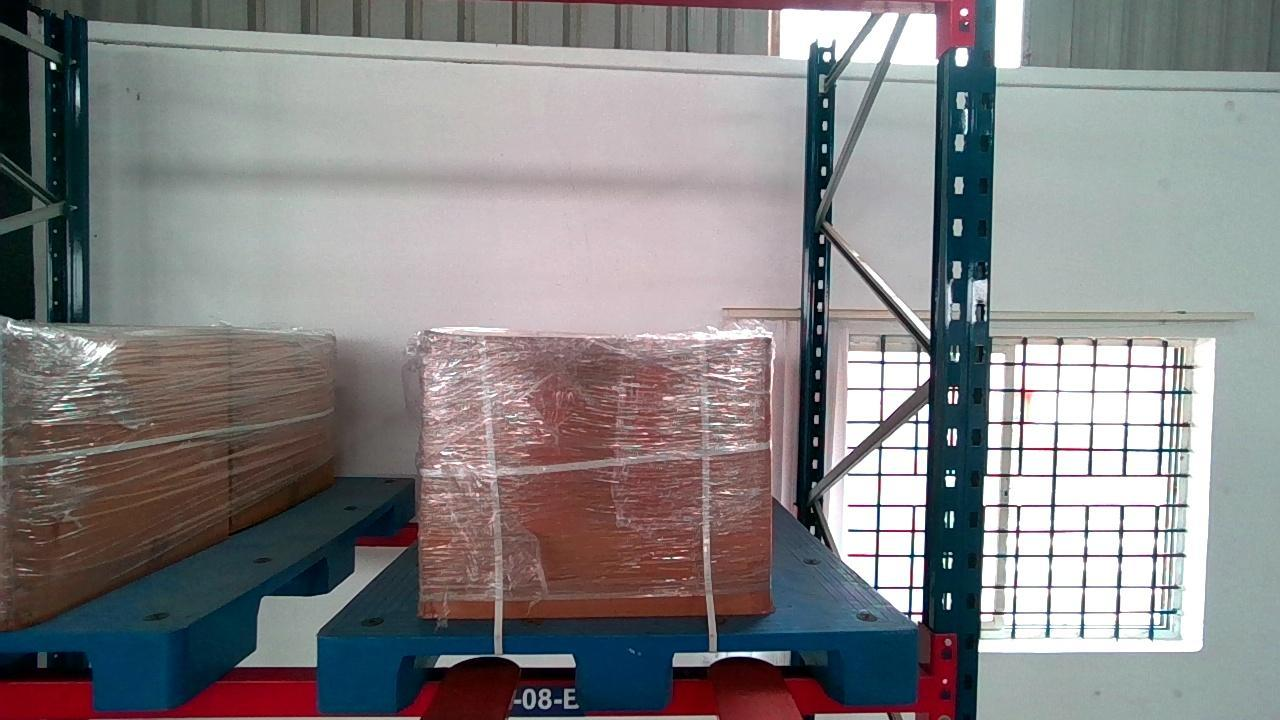small_pallet: (318, 628, 915, 711)
